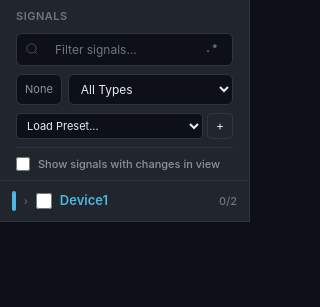
Test: SignalSidebar › Device Expansion › expands/collapses device on click
Check: the text "Signal1" is not shown
Click to expand
Click the text "Device1": [84, 200] box left=60, top=192, right=108, bottom=208
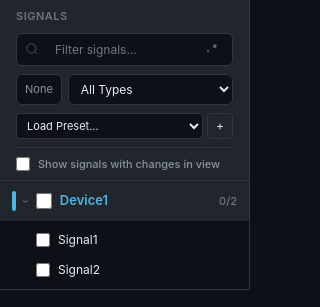
Check: the text "Signal1" is shown, box left=58, top=231, right=98, bottom=249
Check: the text "Signal2" is shown, box left=58, top=261, right=100, bottom=279
Click to collapse
Click the text "Device1": [84, 200] box left=60, top=192, right=108, bottom=208
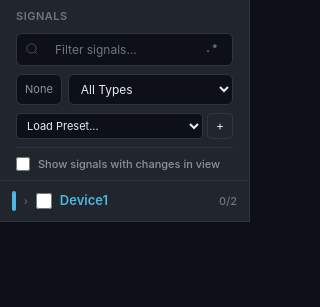
Check: the text "Signal1" is gone
